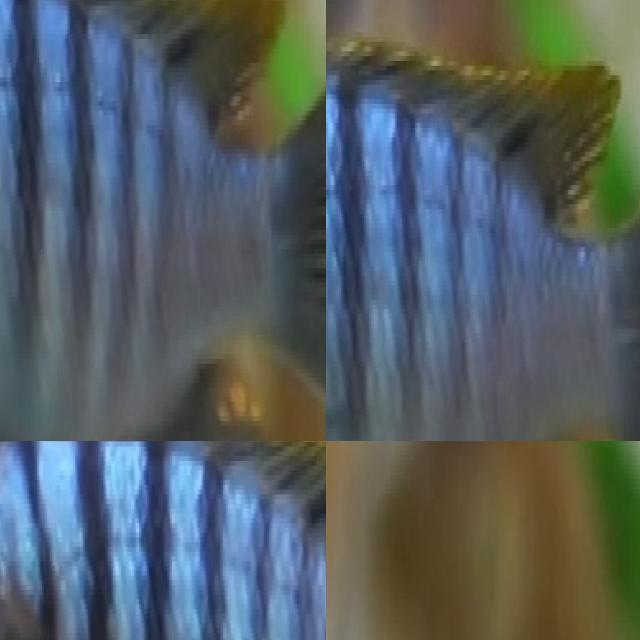fish: (0, 0, 326, 441), (326, 0, 640, 441), (0, 441, 326, 640)
